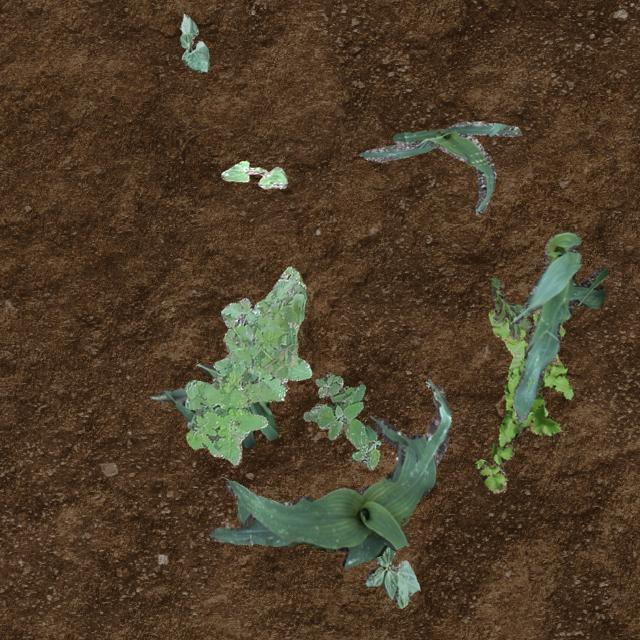crop: (208, 378, 451, 568), (512, 230, 608, 420), (358, 120, 520, 212), (150, 362, 276, 446), (364, 546, 418, 606), (220, 160, 286, 188), (178, 13, 208, 70)
weed: (184, 266, 310, 464), (474, 308, 572, 492), (302, 372, 380, 468), (490, 276, 530, 338)
